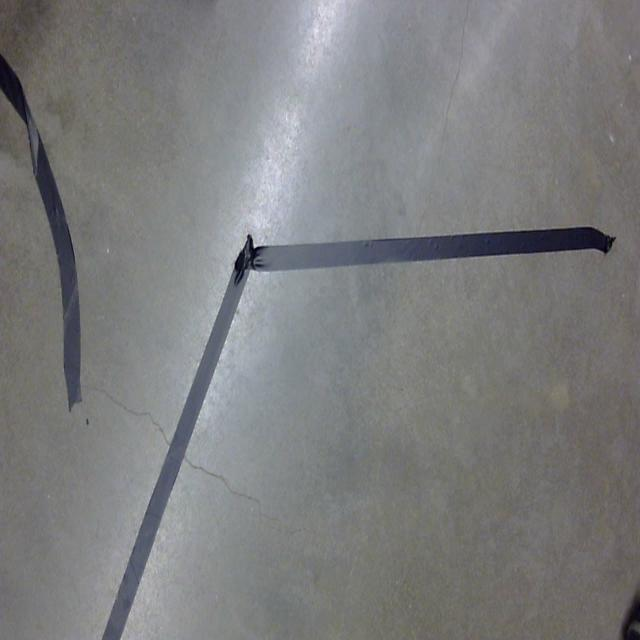tape: (83, 203, 628, 640), (0, 38, 112, 458)
